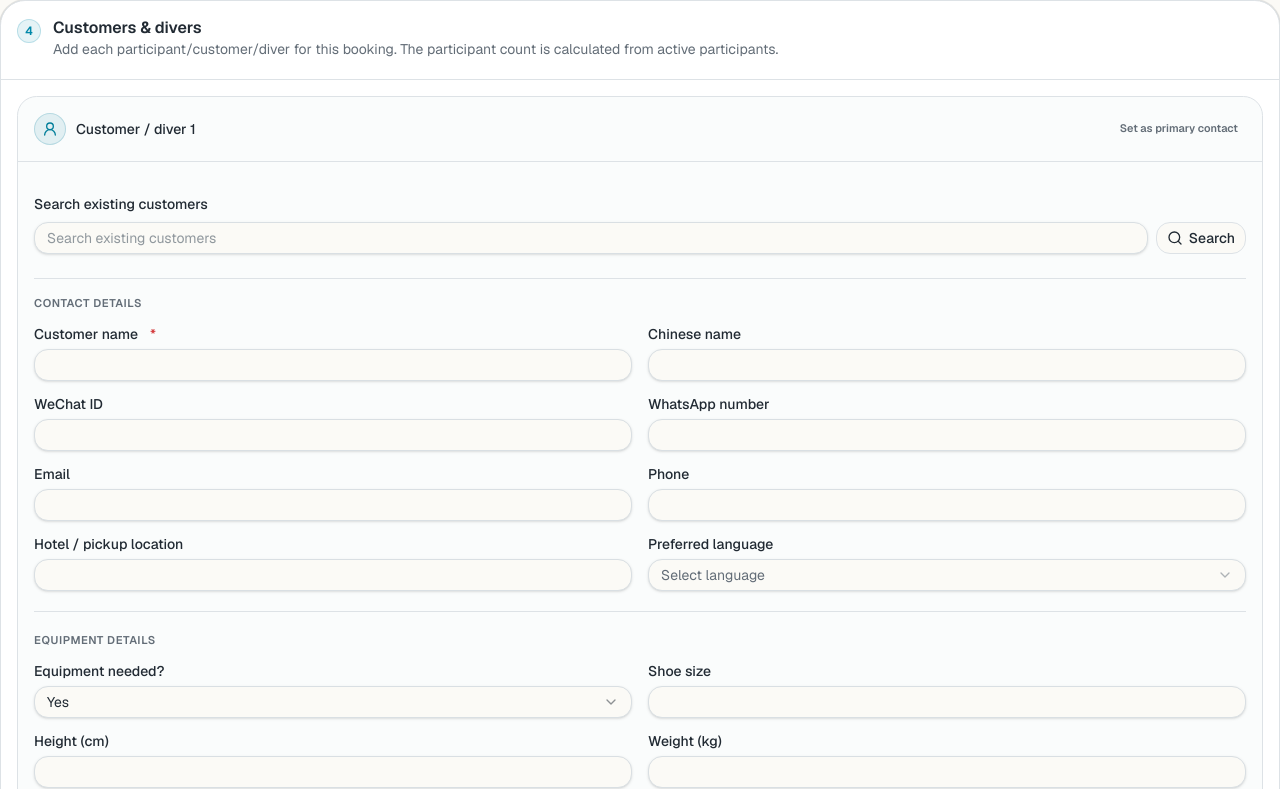
shows a clear empty state when existing customer search has no results
This screenshot has width=1280, height=789.
Type "Unknown Customer" into the search field labelled "Search existing customers" at [591, 238], box [34, 222, 1148, 254]
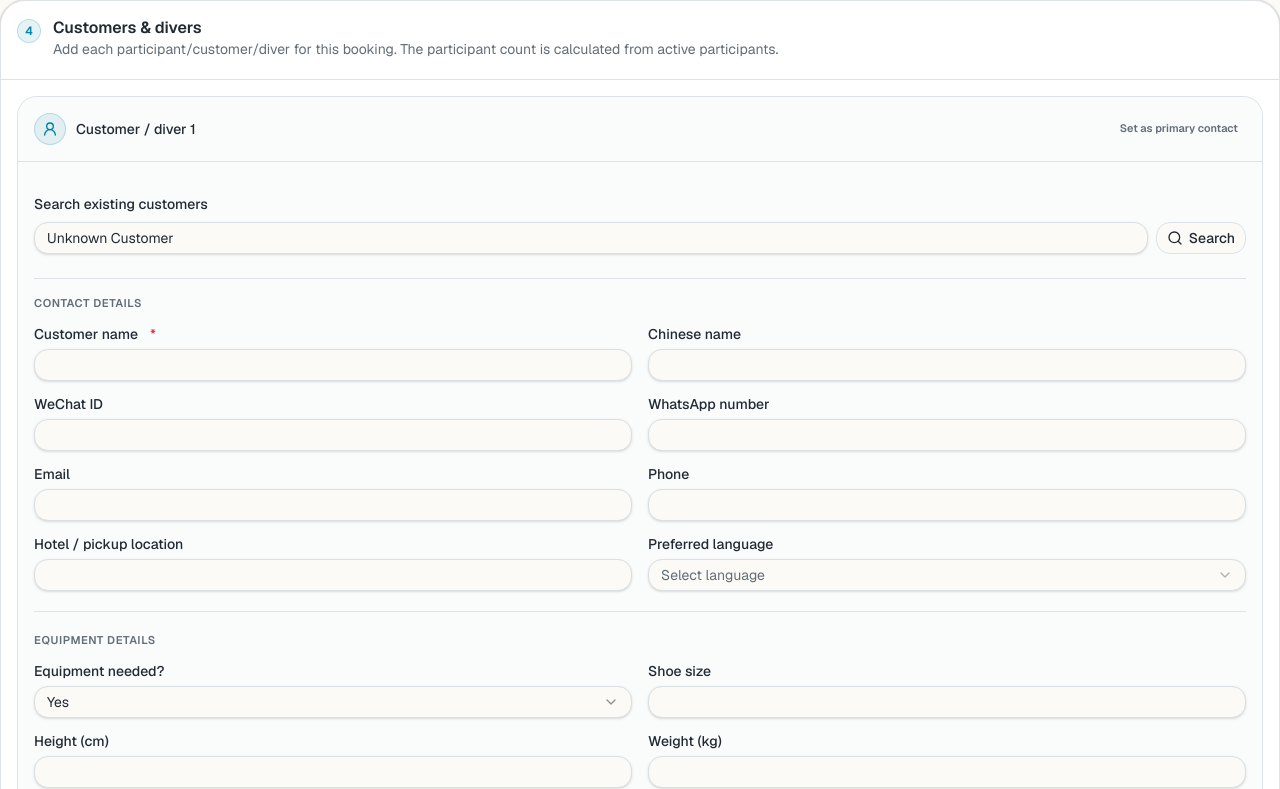
Click the button "Search" at [1201, 238], box [1156, 222, 1246, 254]
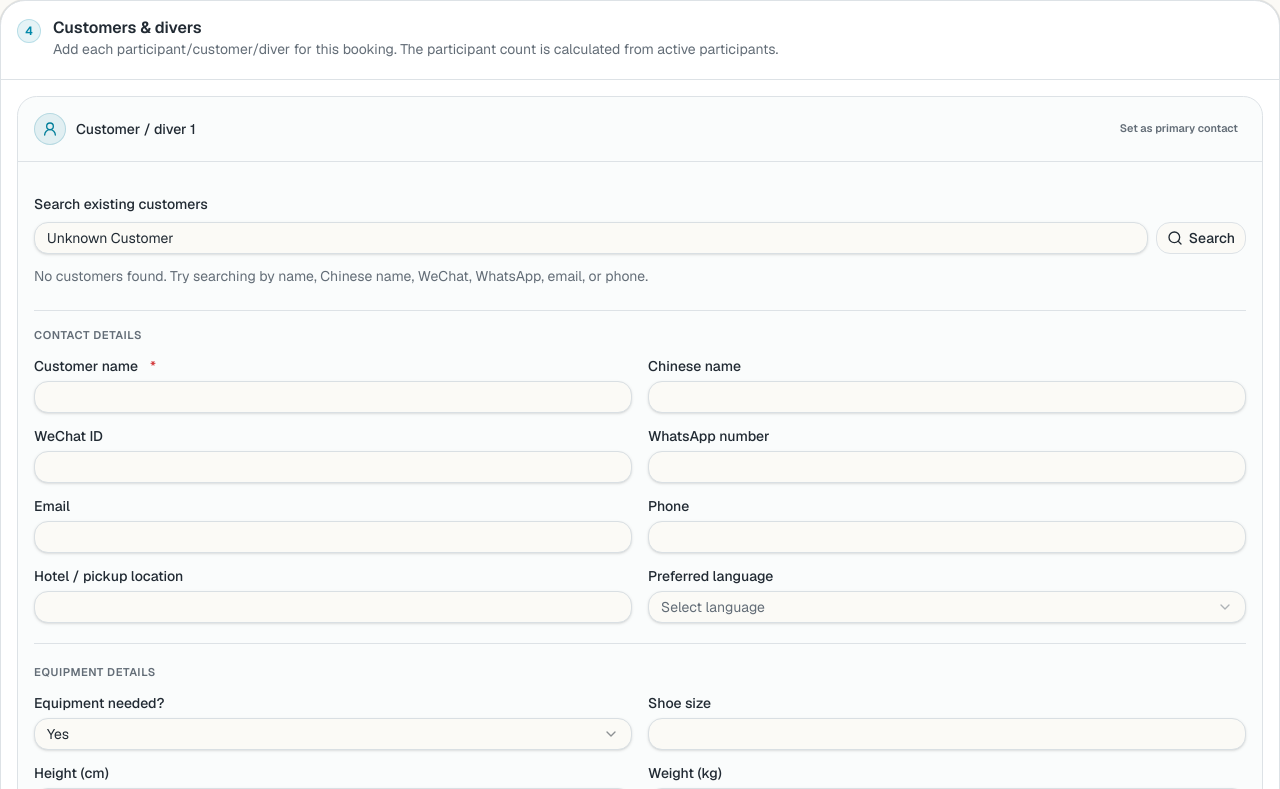
Check: the text "No customers found" is shown, box [34, 267, 648, 285]
